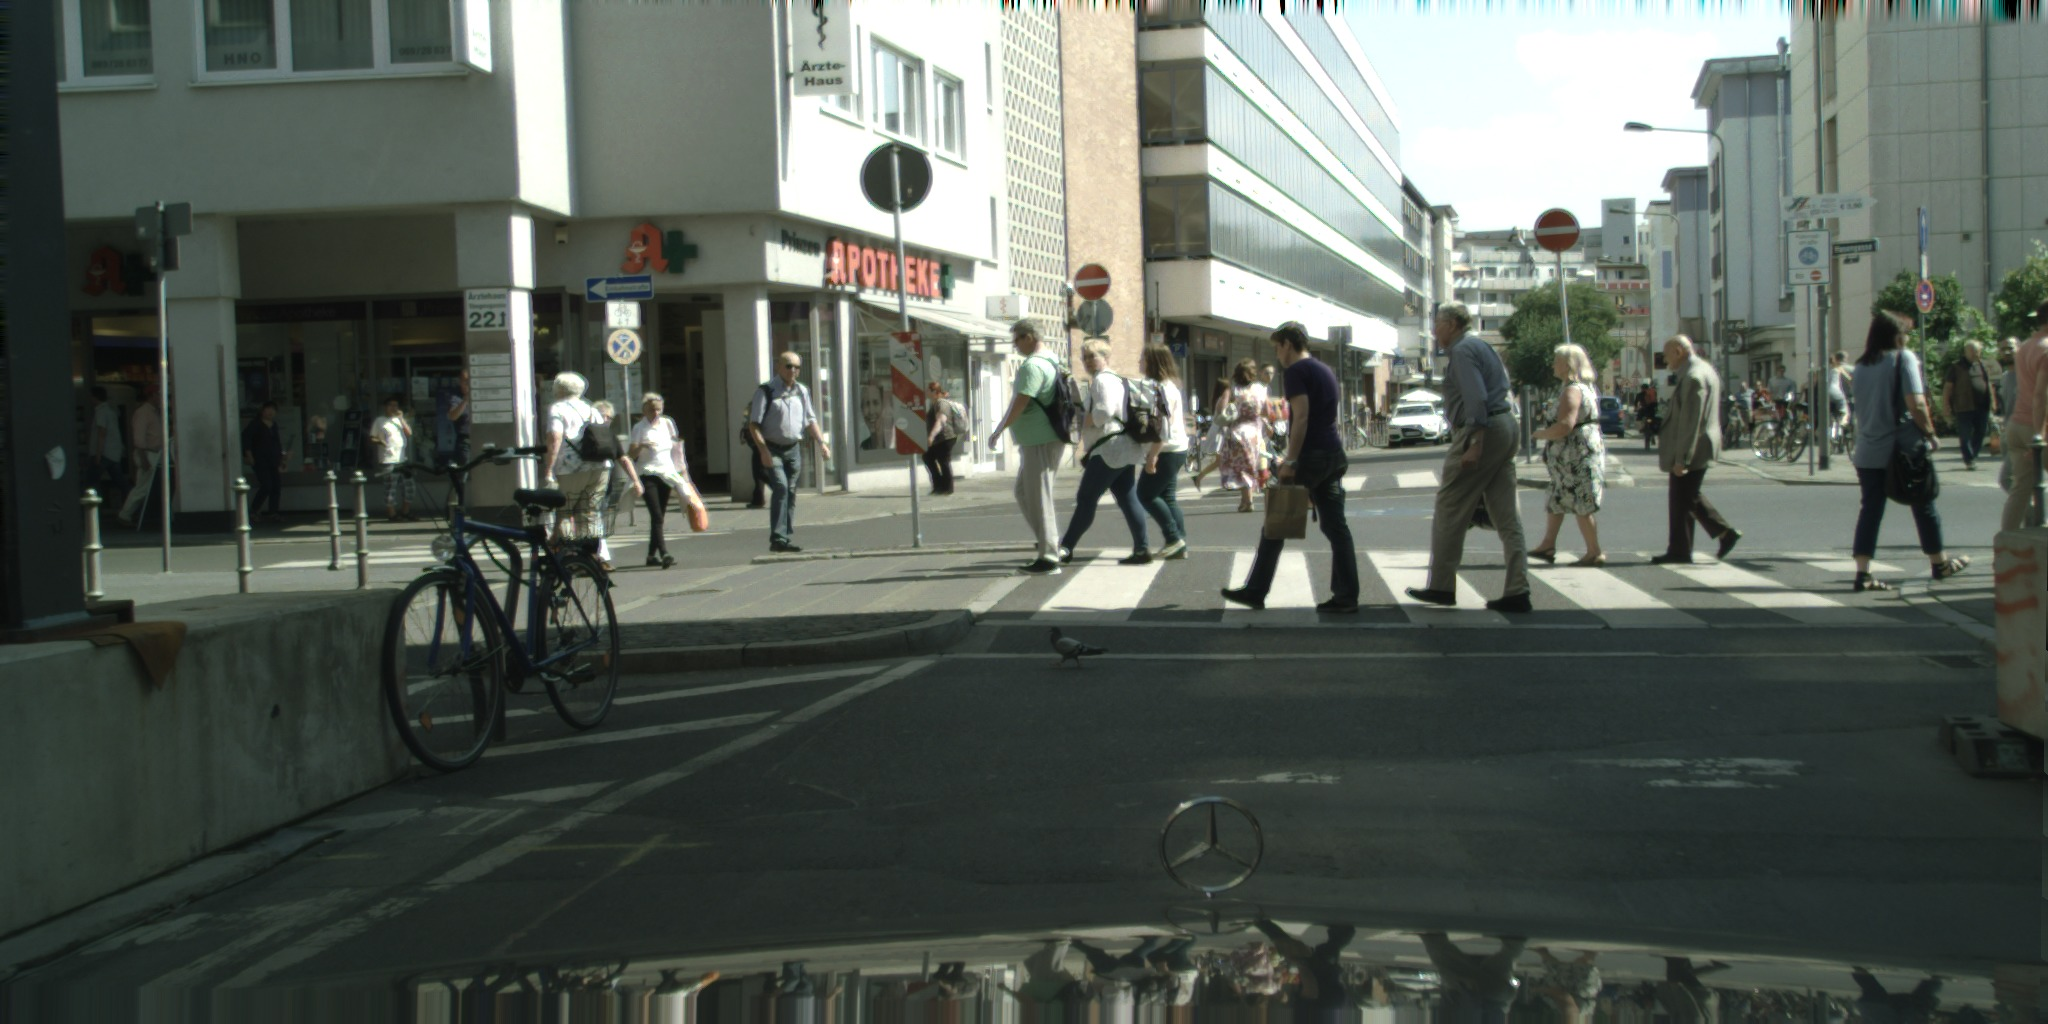bicycle: (373, 442, 620, 773), (1748, 392, 1812, 463), (1824, 403, 1863, 459), (1182, 415, 1215, 473), (1717, 395, 1750, 448), (1644, 412, 1667, 450), (1340, 417, 1368, 448)
car: (1386, 402, 1444, 447), (1584, 397, 1629, 438), (1423, 410, 1459, 441)
person: (1221, 320, 1360, 613), (1405, 300, 1533, 613), (1851, 310, 1970, 590), (1029, 337, 1172, 564), (988, 317, 1086, 576), (1653, 334, 1741, 562), (1519, 343, 1605, 566), (747, 350, 831, 551), (629, 391, 708, 570), (539, 371, 617, 541), (573, 401, 644, 574), (1134, 342, 1188, 560), (2000, 300, 2047, 544), (1996, 333, 2047, 501), (1214, 359, 1269, 512), (82, 387, 146, 515), (1942, 340, 1998, 470), (118, 383, 167, 525), (916, 381, 970, 498), (368, 398, 418, 522), (240, 401, 288, 523), (1191, 378, 1241, 492), (740, 395, 782, 508), (447, 367, 472, 521), (1794, 368, 1829, 444), (1242, 364, 1275, 439), (1247, 425, 1279, 491), (1766, 366, 1795, 424), (1733, 381, 1760, 437), (1751, 380, 1778, 417), (1356, 401, 1373, 437), (1374, 406, 1390, 426)
rider: (1823, 353, 1852, 435), (1831, 350, 1865, 413), (1634, 383, 1658, 446)
